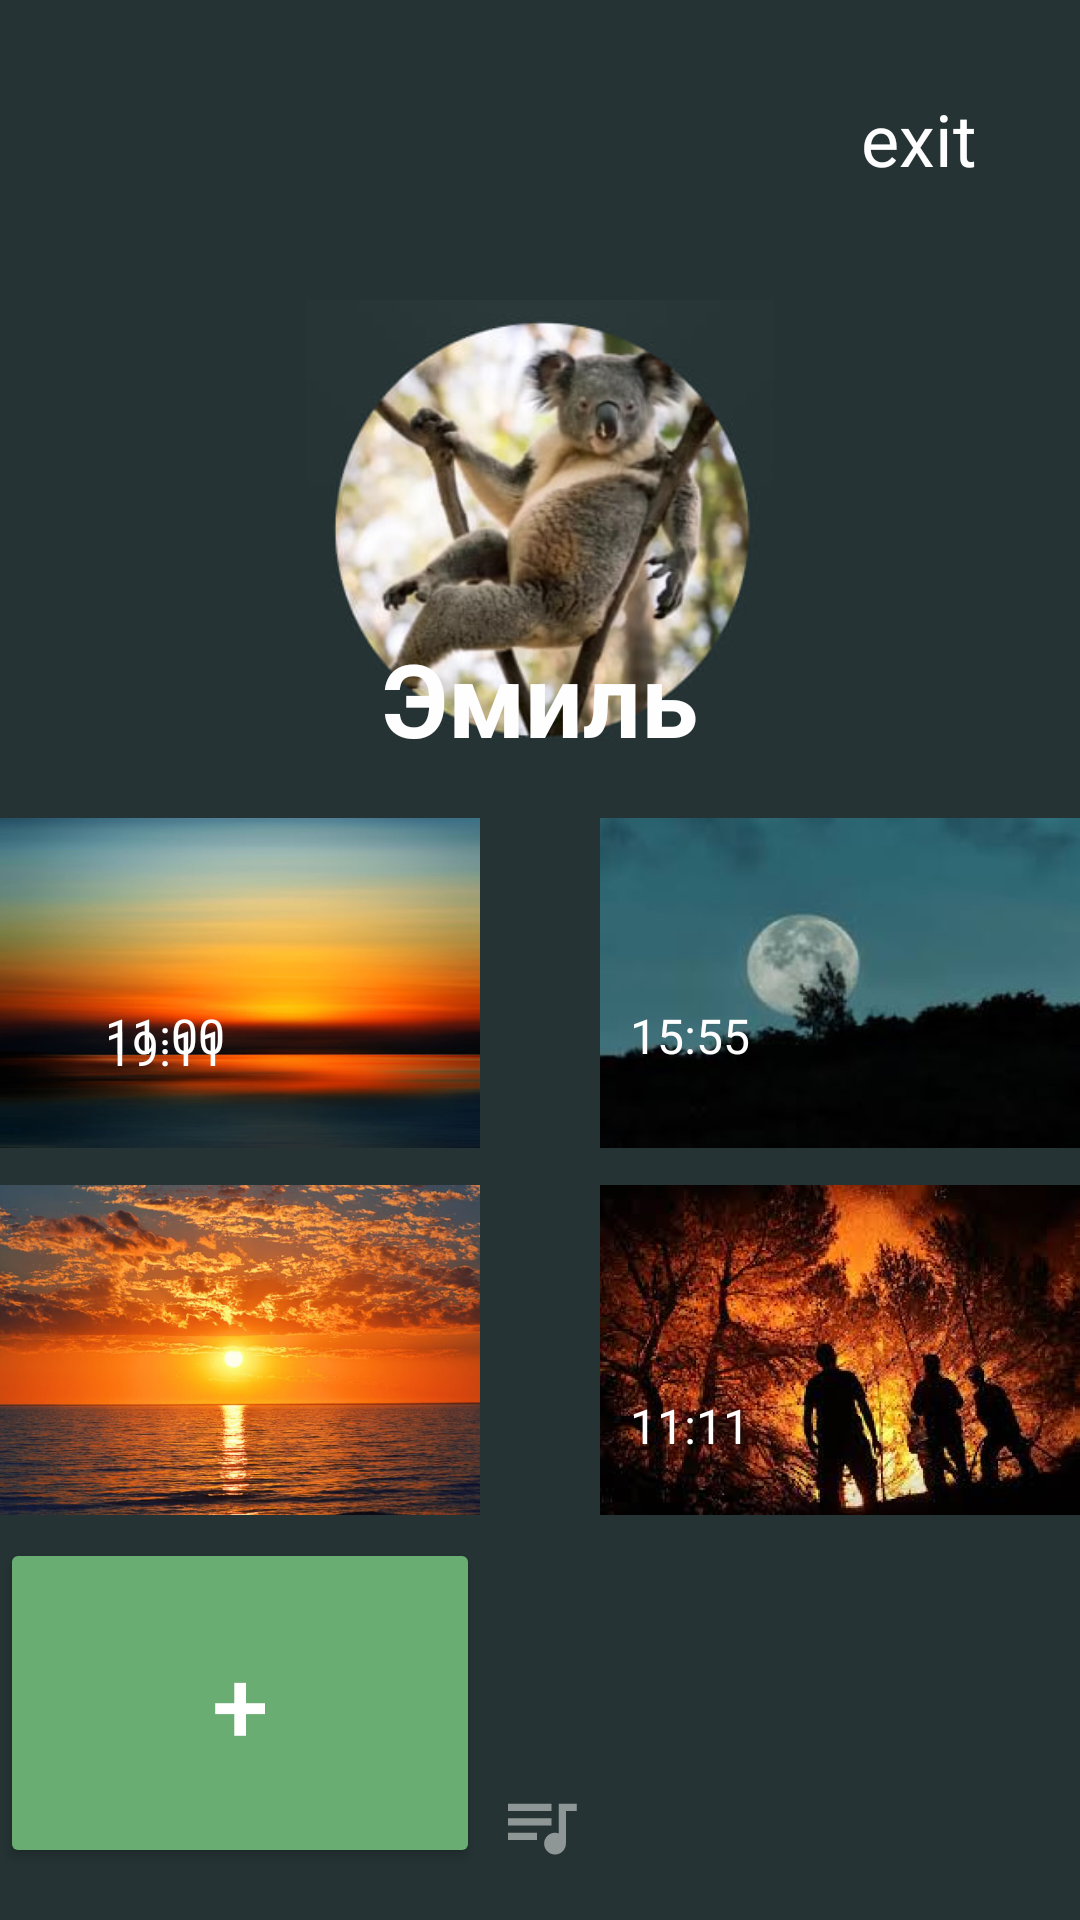

Screen size 1080w x 1920h. Icon name, then its box in pixels as (x1, y1, x2, y2):
queue music: (508, 1803, 577, 1855)
